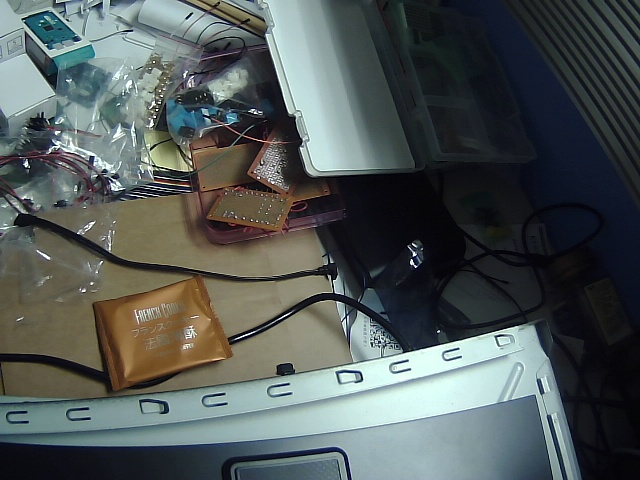frenchcookie: (84, 269, 246, 391)
